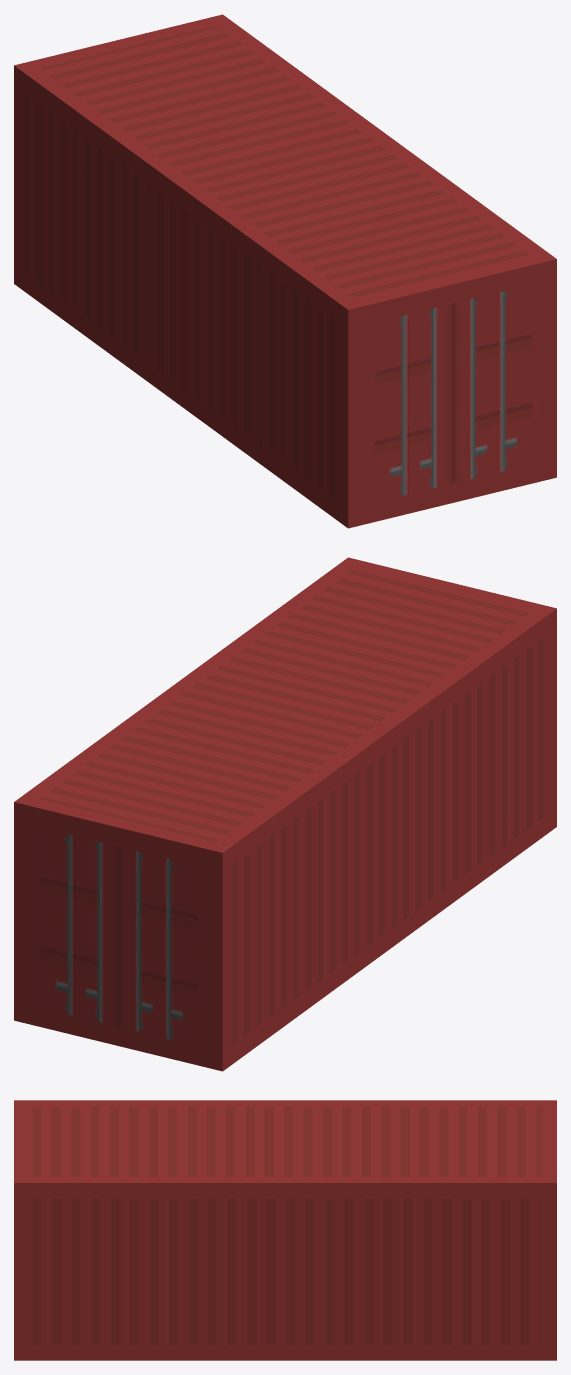
The model's file is Container002.fbx.
3 renders of one model, top to bottom at view 1: azimuth 30°, elevation 25°; view 2: azimuth 150°, elevation 25°; view 3: azimuth 270°, elevation 25°, orthographic. The views are drawn at different scales.
Parts seen in each view (by area): view 1: Container002; view 2: Container002; view 3: Container002.
Boxes of the visible parts, left/top/right/bottom form: Container002: left=14, top=14, right=556, bottom=528; Container002: left=14, top=557, right=556, bottom=1071; Container002: left=14, top=1100, right=556, bottom=1360.
Size of the model in its own units: 227 by 227 by 629.
